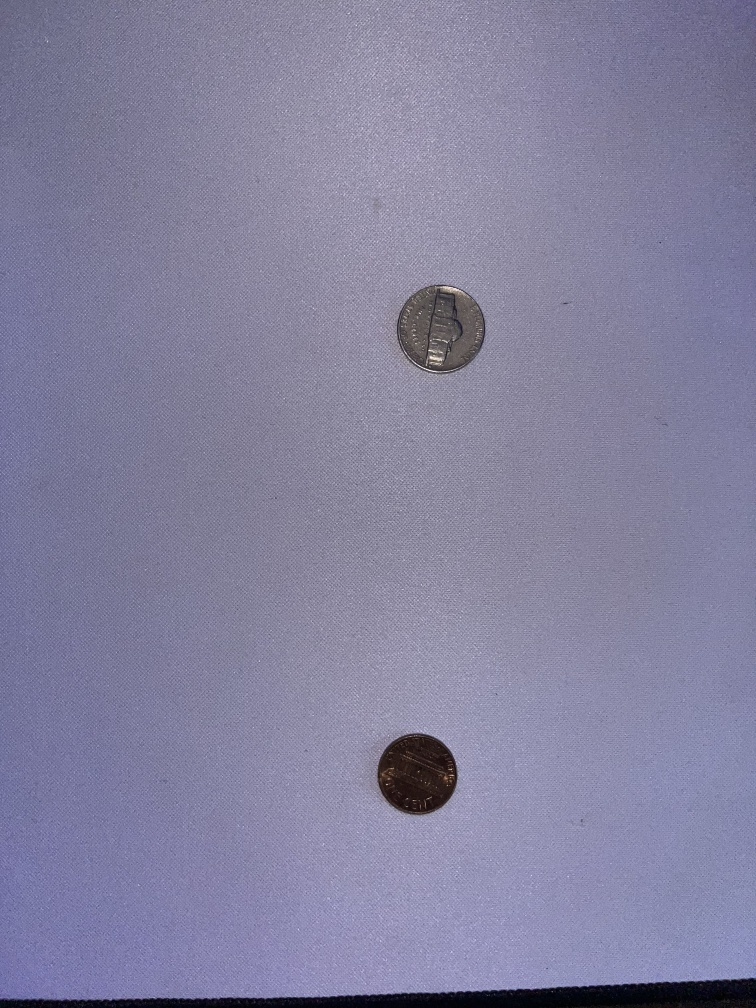nickel: (394, 282, 487, 375)
penny: (374, 731, 462, 817)
